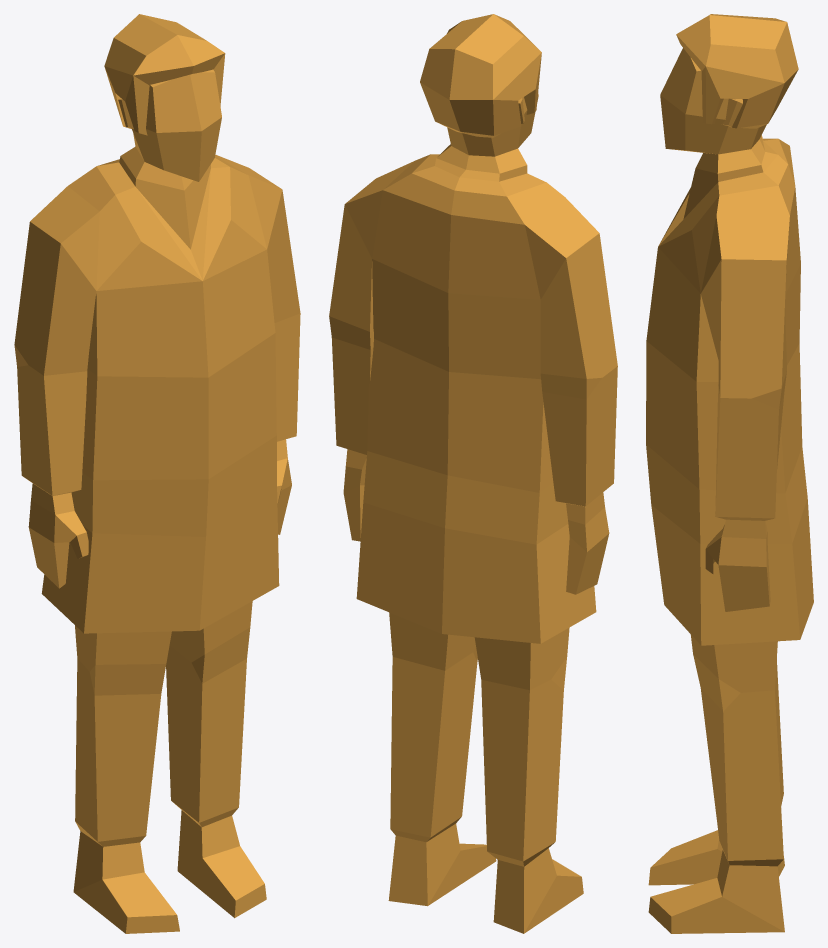
File: man-coat.fbx
3 views of the same model, side by side, from view 1: azimuth 30°, elevation 25°; view 2: azimuth 150°, elevation 25°; view 3: azimuth 270°, elevation 25° (orthographic).
Parts seen in each view (by area): view 1: man-coat; view 2: man-coat; view 3: man-coat.
Part boxes in pixels (x1=…): man-coat: x1=14, y1=14, x2=300, y2=933; man-coat: x1=329, y1=14, x2=617, y2=933; man-coat: x1=646, y1=14, x2=813, y2=933.
Size of the model in its own units: 0.5663 by 1.83 by 0.3151.
